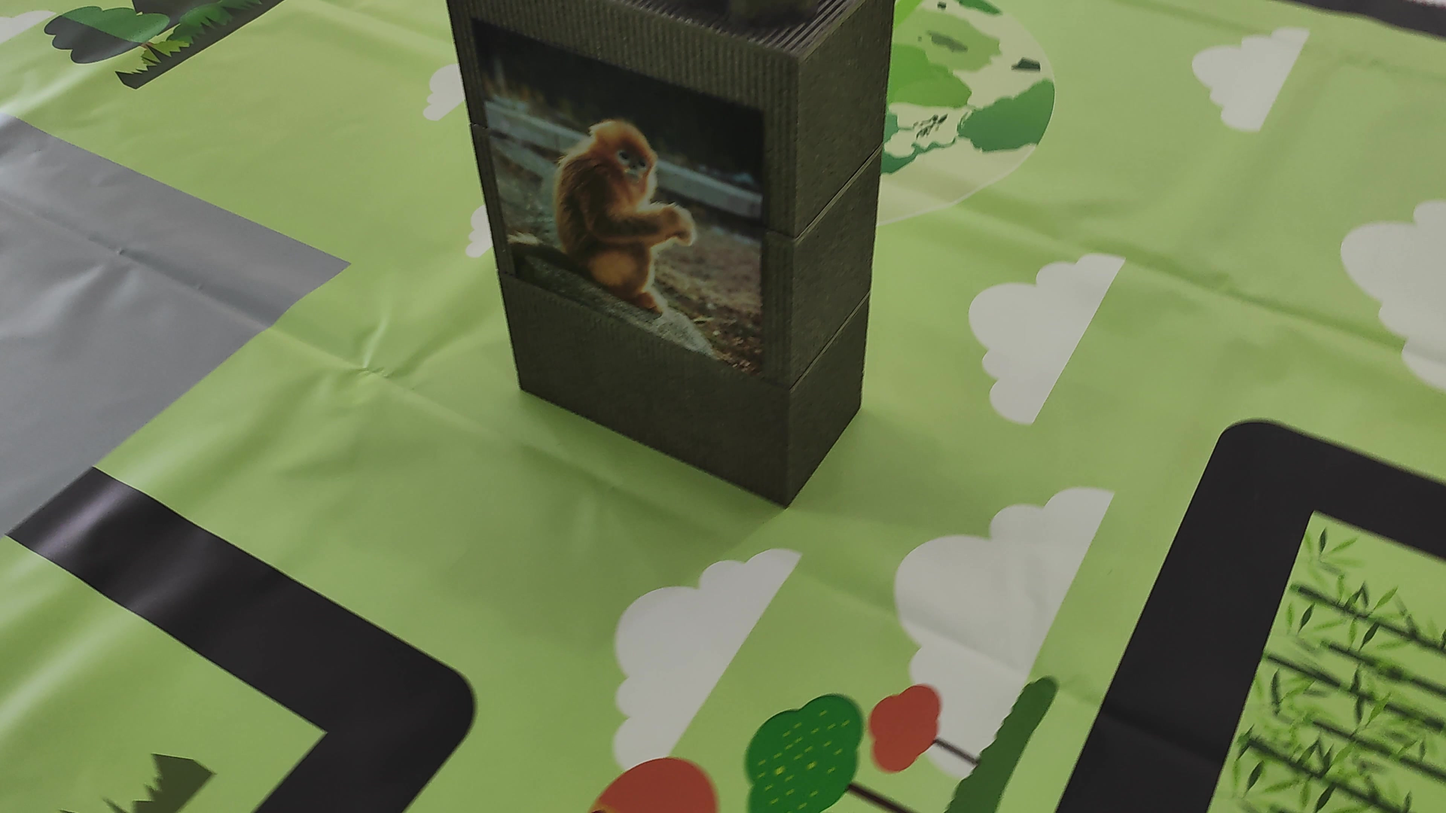monkey: (490, 79, 769, 373)
